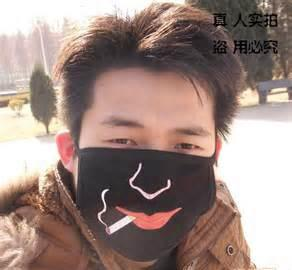OK: (79, 107, 217, 259)
